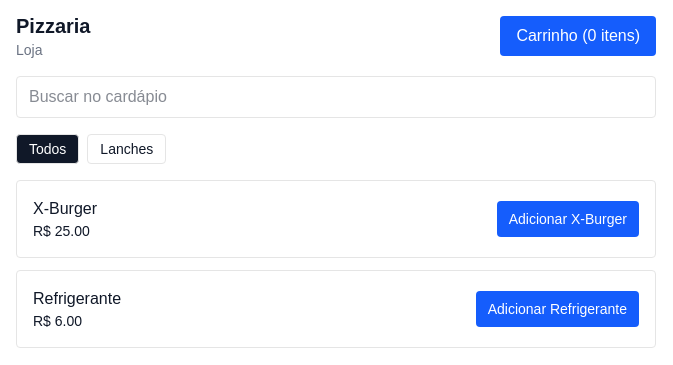
CardapioPage › adiciona produto sem adicionais direto ao carrinho
Expected: the text "Refrigerante" is shown, [33,287,121,311]
Click the button "Adicionar Refrigerante" at x=557, y=309, box [476,291,639,327]
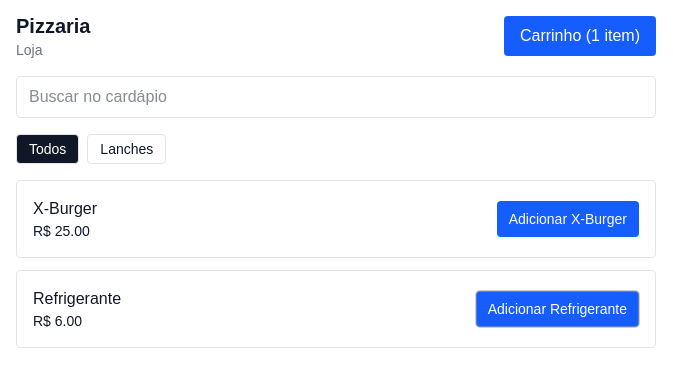
Now the link "Carrinho (1 item)" is shown, box [504,16,656,56]
